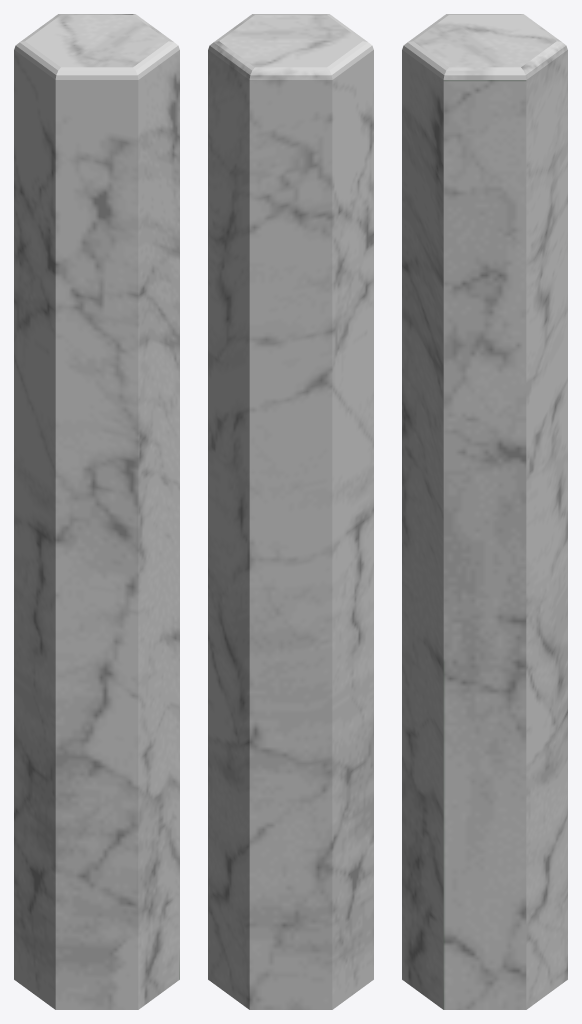
The model's file is pilier_2.gltf.
3 renders of one model, left to right at view 1: azimuth 30°, elevation 25°; view 2: azimuth 150°, elevation 25°; view 3: azimuth 270°, elevation 25°, orthographic.
Parts seen in each view (by area): view 1: Cylinder; view 2: Cylinder; view 3: Cylinder.
Part boxes in pixels (x1,y1,x2,y2): Cylinder: (14, 14, 179, 1009); Cylinder: (208, 14, 373, 1009); Cylinder: (402, 14, 567, 1009).
Size of the model in its own units: 0.1386 by 1 by 0.16.
Materials: 1 (1 with a texture image).
